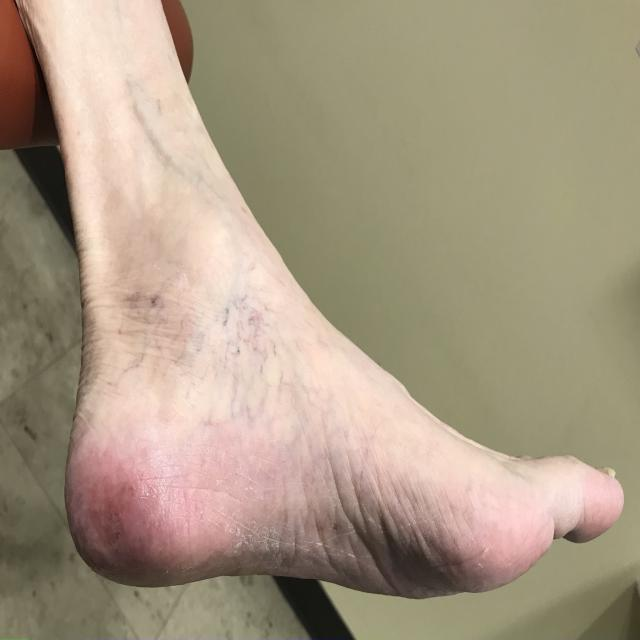stage-1: (87, 499, 130, 558)
